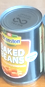beans: (1, 5, 43, 85)
